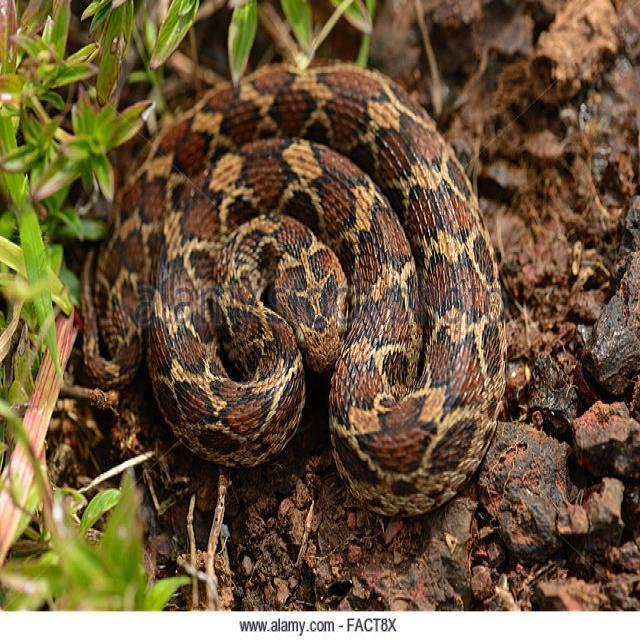Snake: (78, 59, 508, 517)
